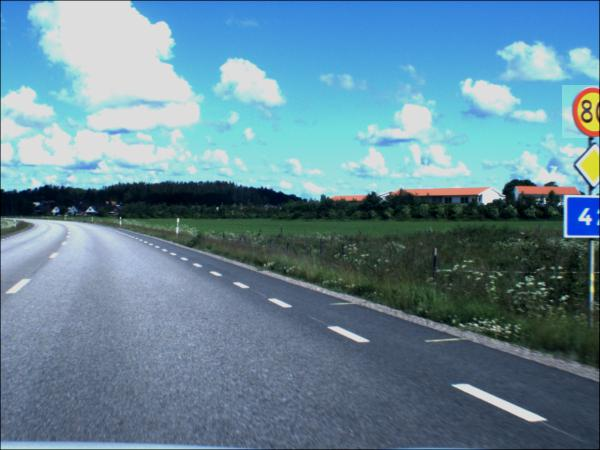80_SIGN: (563, 86, 600, 140)
PRIORITY_ROAD: (575, 142, 600, 191)
